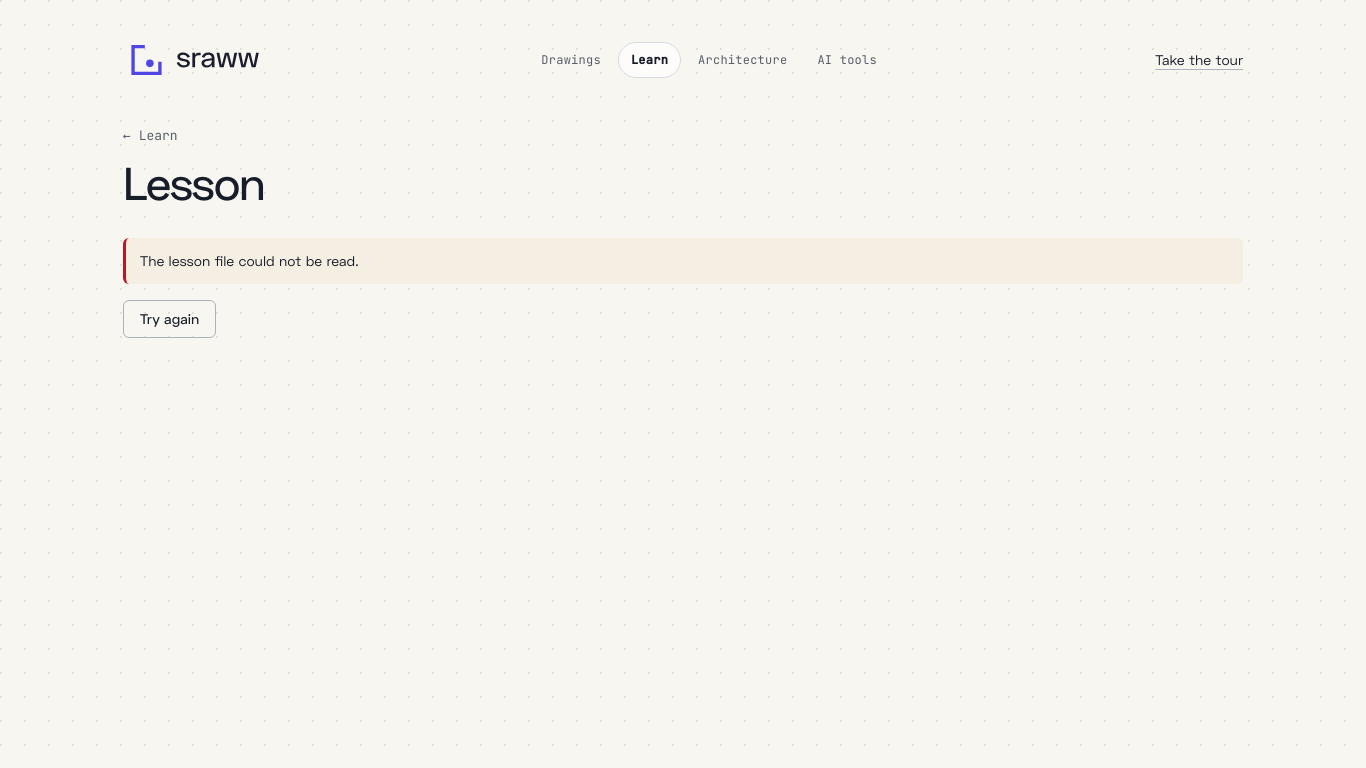
Test: LessonView › a failed lesson load is retried by Try again, which asks the server again
Check: the message reads "The lesson file could not be read.", box [140, 252, 358, 269]
Click the button with aria-label "Try again: load this lesson": click(170, 318) [123, 300, 216, 338]
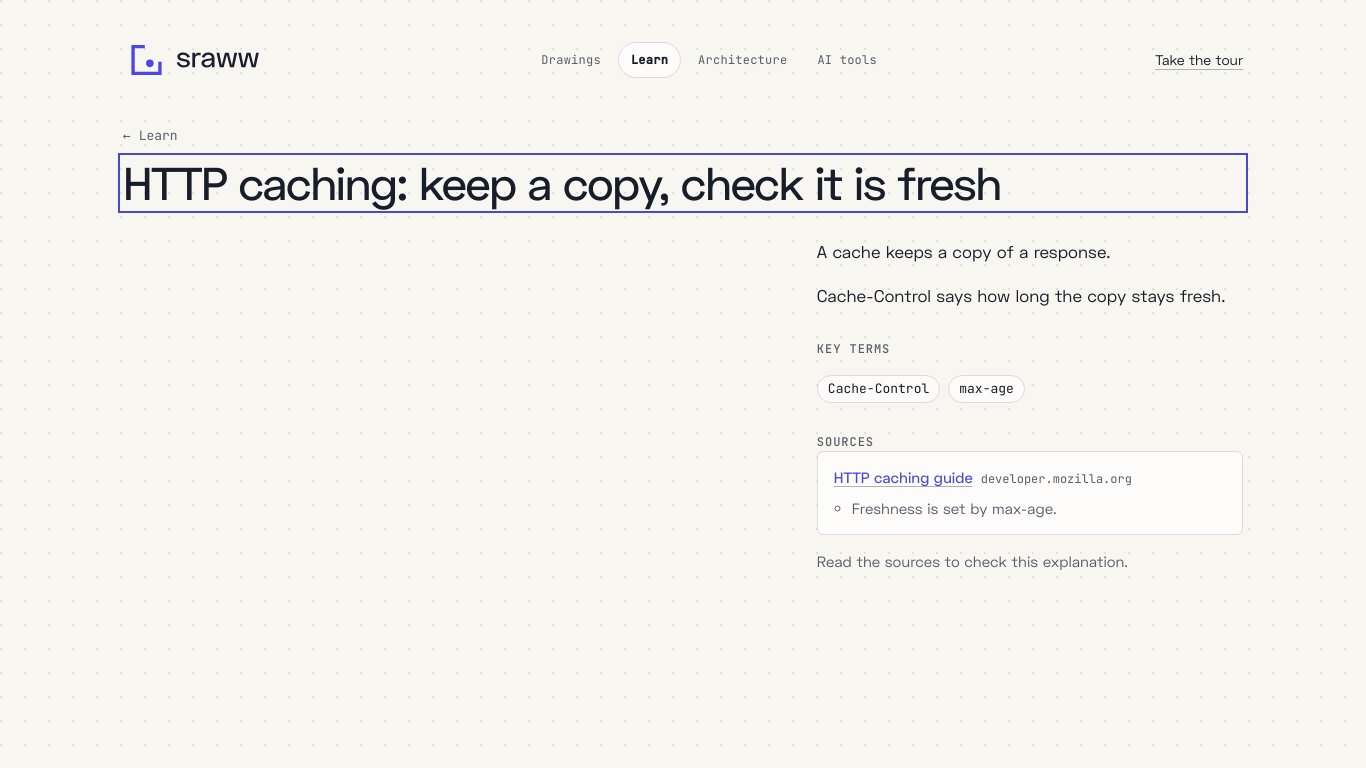
Check: the heading "HTTP caching: keep a copy, check it is fresh" is shown, box [123, 155, 1001, 210]
Check: the message "The lesson file could not be read." is gone
